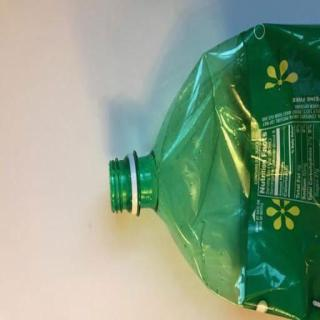Plastic-bottle: (109, 23, 320, 320)
